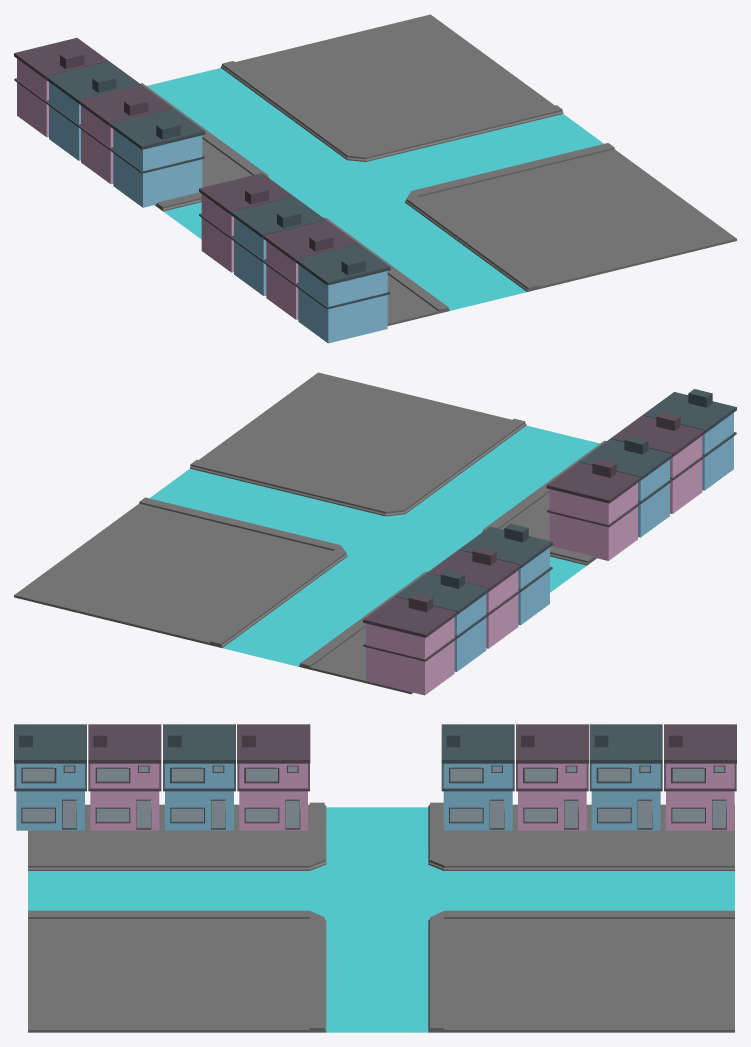
Rendered from Basic world.fbx.
3 views of the same model, one above another, from view 1: azimuth 30°, elevation 25°; view 2: azimuth 150°, elevation 25°; view 3: azimuth 270°, elevation 25° (orthographic). The views are drawn at different scales.
Visible parts, largest first — view 1: pPlane1, pCube6, pCube4, pCube1, pCube3, pCube5, pCube2, pCube8, pCube7; view 2: pPlane1, pCube8, pCube2, pCube5, pCube7, pCube3, pCube1, pCube4, pCube6; view 3: pPlane1, pCube5, pCube7, pCube4, pCube2, pCube1, pCube3, pCube6, pCube8.
Part boxes in pixels (x1=…): pPlane1: x1=140, y1=14, x2=736, y2=325; pCube6: x1=295, y1=244, x2=390, y2=343; pCube4: x1=110, y1=108, x2=205, y2=207; pCube1: x1=231, y1=196, x2=325, y2=295; pCube3: x1=78, y1=84, x2=172, y2=184; pCube5: x1=263, y1=220, x2=358, y2=319; pCube2: x1=199, y1=173, x2=293, y2=272; pCube8: x1=14, y1=38, x2=108, y2=137; pCube7: x1=46, y1=61, x2=140, y2=160; pPlane1: x1=14, y1=372, x2=606, y2=694; pCube8: x1=363, y1=593, x2=457, y2=695; pCube2: x1=546, y1=459, x2=640, y2=560; pCube5: x1=610, y1=412, x2=704, y2=513; pCube7: x1=395, y1=570, x2=489, y2=671; pCube3: x1=427, y1=547, x2=520, y2=648; pCube1: x1=579, y1=436, x2=672, y2=537; pCube4: x1=459, y1=523, x2=552, y2=625; pCube6: x1=643, y1=389, x2=736, y2=490; pPlane1: x1=28, y1=802, x2=734, y2=1032; pCube5: x1=88, y1=724, x2=161, y2=830; pCube7: x1=589, y1=724, x2=662, y2=830; pCube4: x1=441, y1=724, x2=514, y2=830; pCube2: x1=237, y1=724, x2=310, y2=830; pCube1: x1=163, y1=724, x2=235, y2=830; pCube3: x1=516, y1=724, x2=588, y2=830; pCube6: x1=14, y1=724, x2=86, y2=830; pCube8: x1=664, y1=724, x2=736, y2=830.
Size of the model in its own units: 33 by 5.64 by 43.08.
3 materials, 3 textured.
